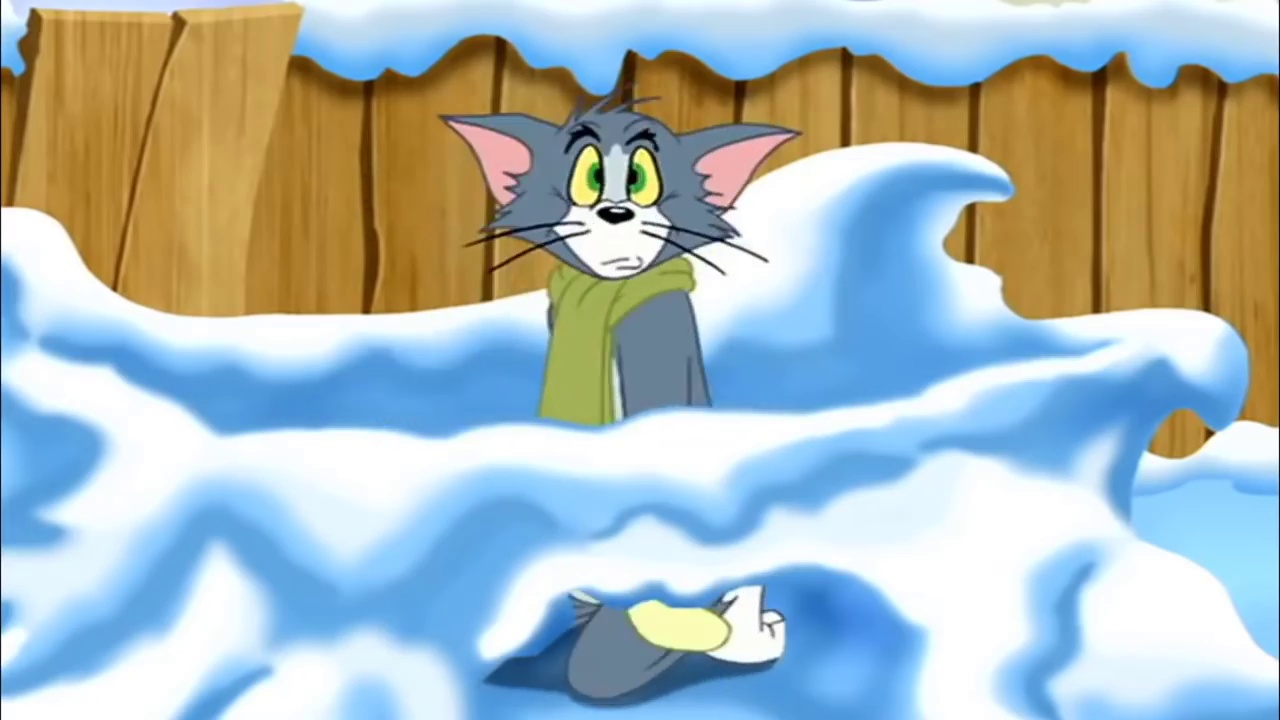face: (553, 123, 675, 285)
